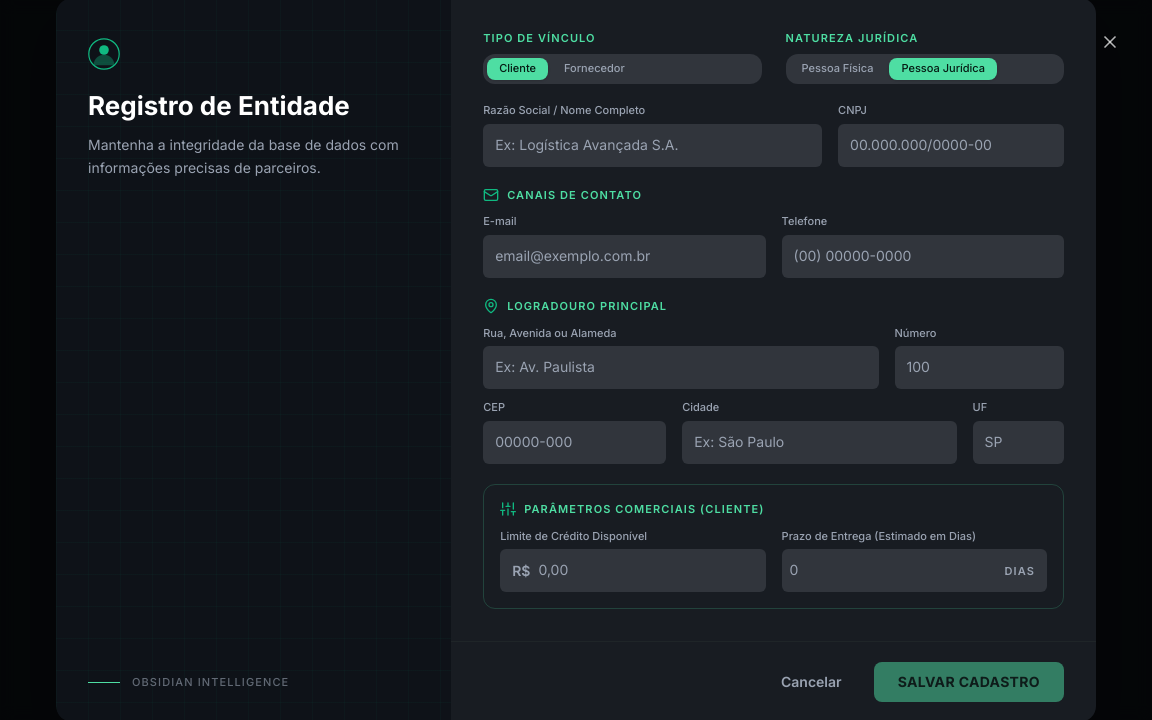
Scenario: EntityFormModal 3.2 — Campo documento com máscara dinâmica › aplica máscara CPF ao digitar como pessoa física
Click the button "Pessoa Física" at (838, 69), box [790,58,886,80]
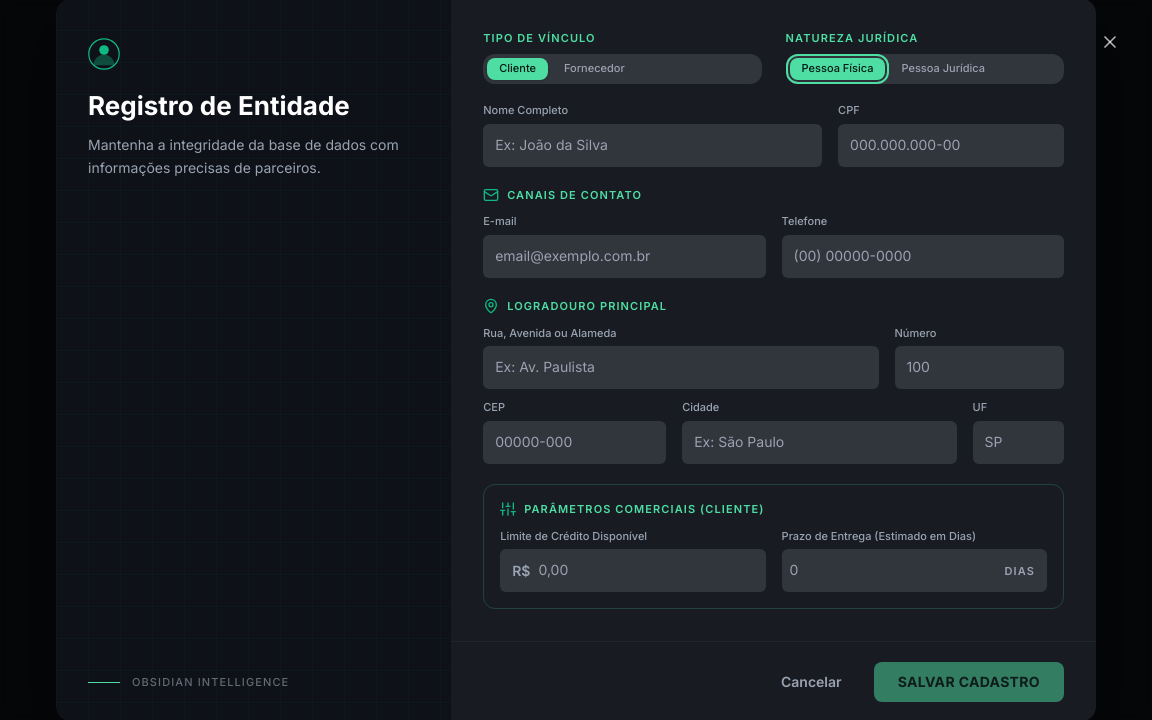
Type "12345678909" into the field labelled "CPF" at (951, 145), box [850,124,1052,167]
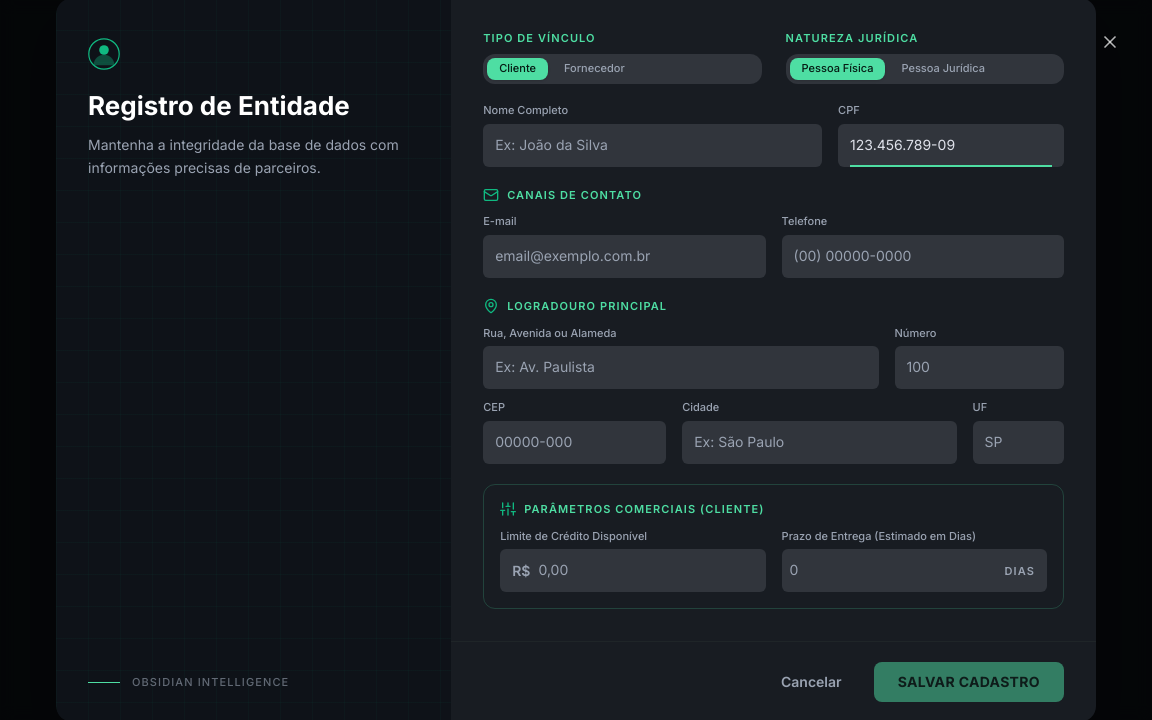
Expected: the field labelled "CPF" holds "123.456.789-09", [850,124,1052,167]
